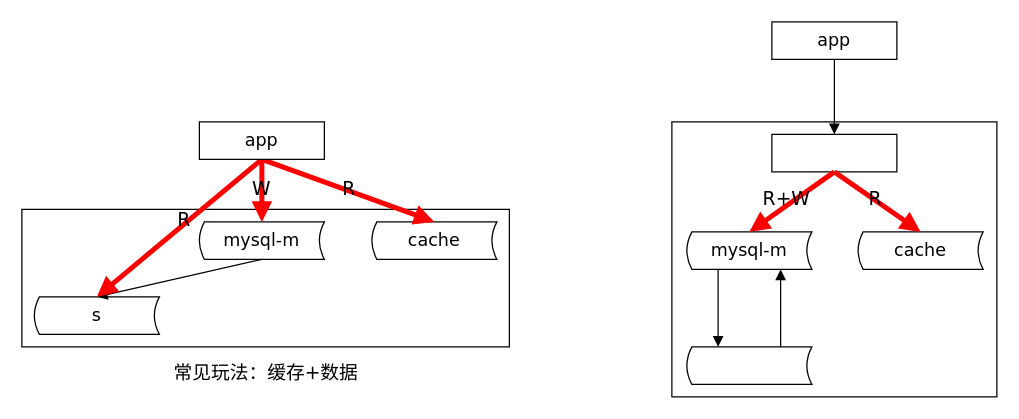
Some shapes in this 1019 by 419 pixel diagram are drawn without their labels. Here are the shapes that lost their labels. From the top down, the centre of each, then its label:
At (834,152): "service".
At (749,365): "s(m)".
